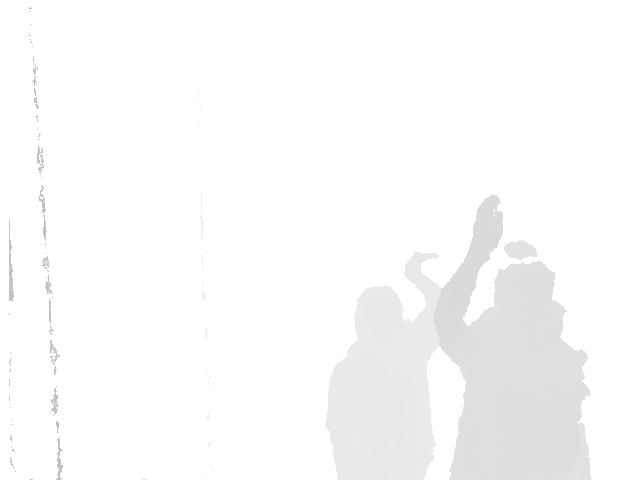hand: (471, 196, 503, 260), (403, 251, 443, 287)
head: (492, 240, 557, 332), (354, 287, 403, 342)
person: (433, 195, 593, 480), (324, 252, 442, 480)
